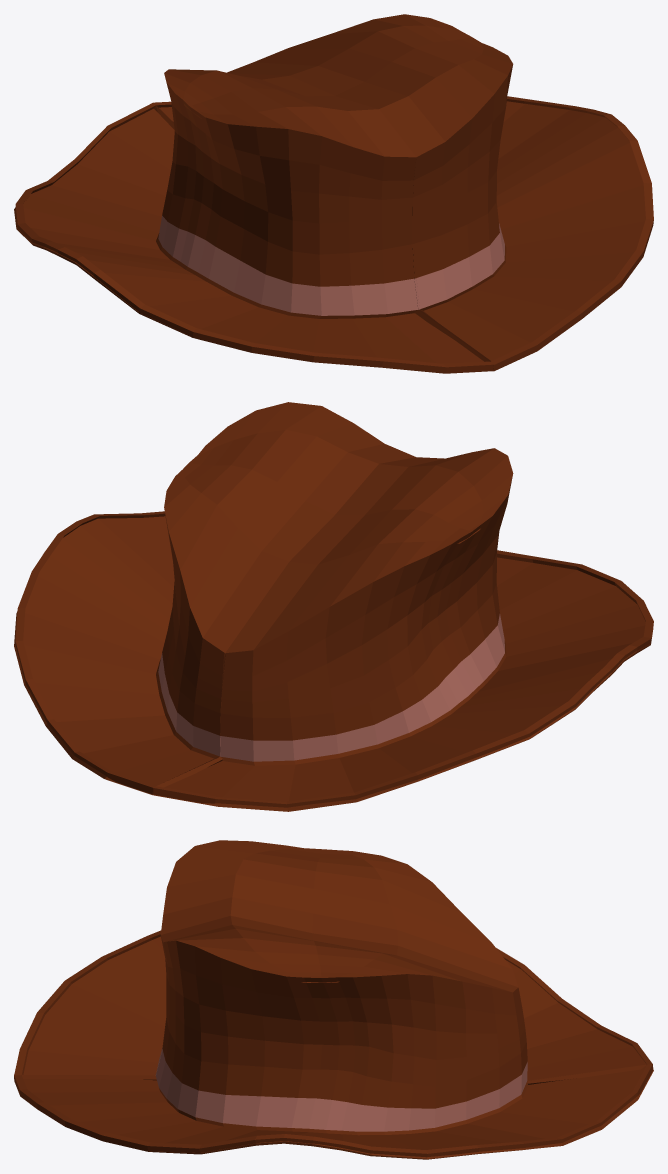
File: cowboy.fbx
3 views of the same model, one above another, from view 1: azimuth 30°, elevation 25°; view 2: azimuth 150°, elevation 25°; view 3: azimuth 270°, elevation 25° (orthographic). The views are drawn at different scales.
Parts seen in each view (by area): view 1: Circle; view 2: Circle; view 3: Circle.
Part boxes in pixels (x1,y1,x2,y2): Circle: [14, 14, 653, 373]; Circle: [14, 402, 653, 811]; Circle: [14, 840, 653, 1159].
Bounding box in the file's own units: 357 × 127 × 382.
